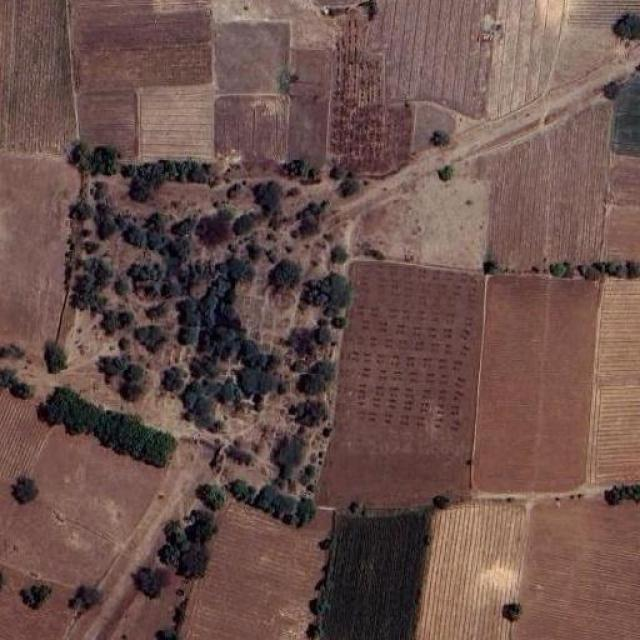land-Sx1C: (318, 261, 484, 508), (472, 275, 600, 491), (0, 426, 165, 587), (182, 501, 332, 639), (489, 101, 612, 269), (512, 498, 640, 639), (415, 500, 530, 639), (0, 152, 79, 351), (318, 511, 431, 639), (376, 0, 495, 117), (329, 15, 412, 176), (352, 175, 490, 269), (72, 0, 209, 89), (0, 0, 76, 153), (590, 279, 640, 484), (485, 0, 563, 118), (550, 0, 639, 88), (136, 84, 214, 161), (211, 0, 335, 48), (0, 568, 74, 639), (288, 49, 331, 167), (218, 22, 289, 93), (215, 95, 288, 161), (0, 390, 51, 479), (78, 89, 136, 159), (606, 155, 640, 261), (612, 71, 640, 156)
